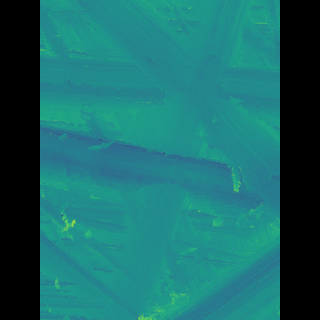Loch: (93, 0, 250, 223), (67, 117, 222, 205)
